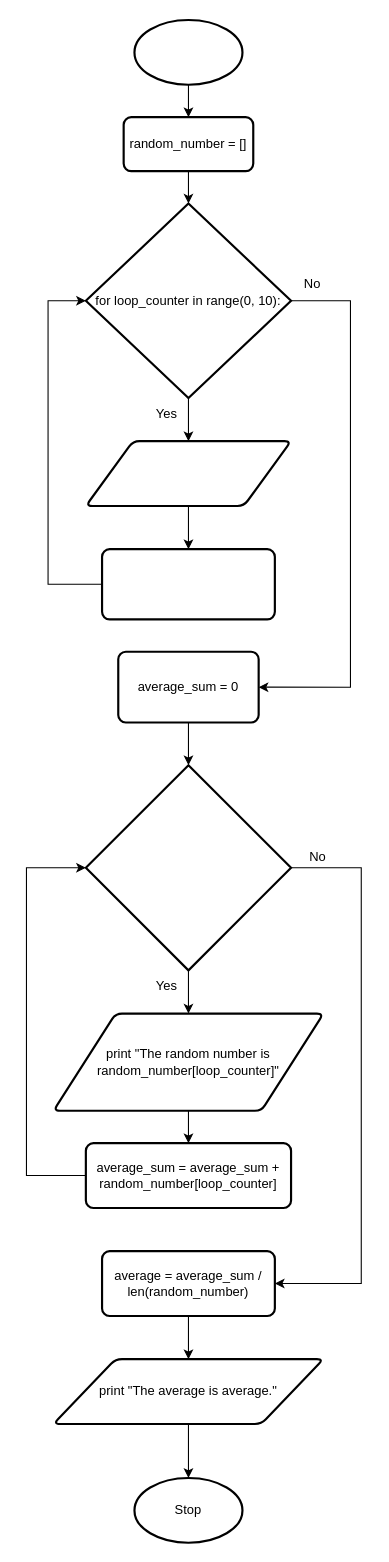
The diagram is 389 pixels wide and 1562 high, and some of its shapes have lost their labels. Here are the shapes that lost their labels. From the top down, the centre of each, then its label:
At point (188, 51): "Start".
At point (188, 473): "single_number = random.randint(1, 100)".
At point (187, 584): "random_number.append (single_number)".
At point (188, 867): "for loop_counter in range(len(random_number))".
